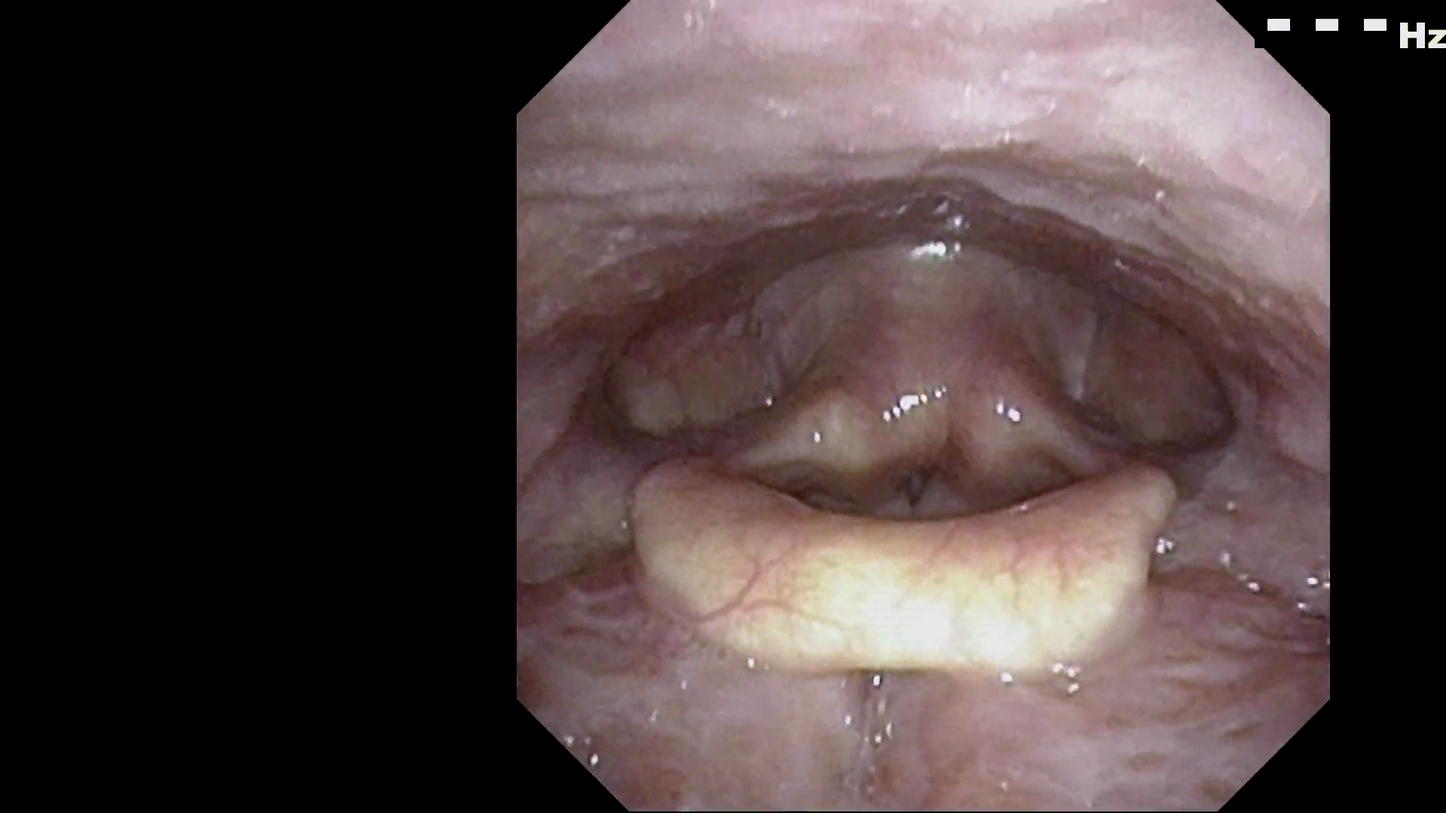epiglottis: (607, 433, 1216, 705)
trachea: (869, 423, 974, 551)
